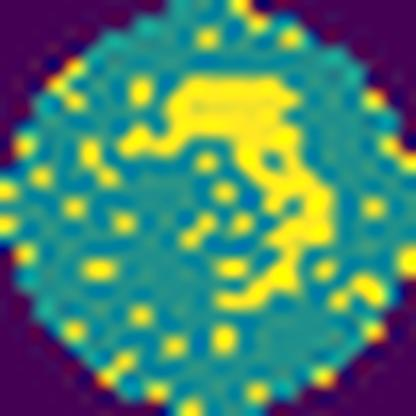Donut: (76, 48, 359, 323)
